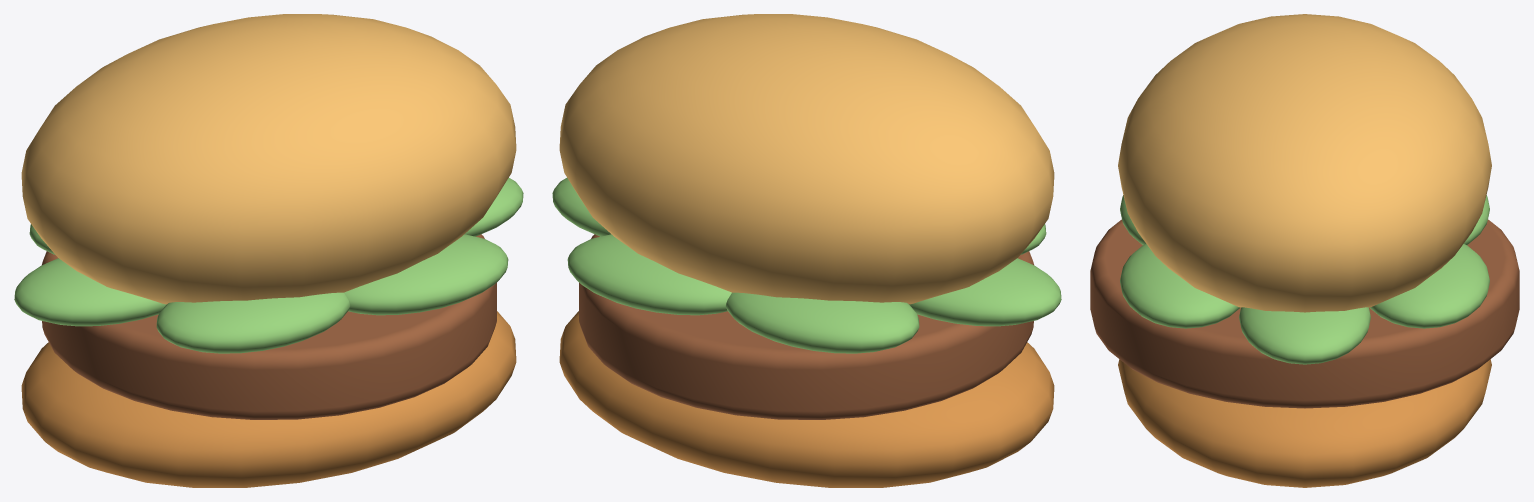
Rendered from bread_burger_unity.glb.
3 views of the same model, side by side, from view 1: azimuth 30°, elevation 25°; view 2: azimuth 150°, elevation 25°; view 3: azimuth 270°, elevation 25° (orthographic). The views are drawn at different scales.
Visible parts, largest first — view 1: Burger top bun, Burger bottom bun, Burger patty, Burger lettuce.004, Burger lettuce.005, Burger lettuce.003, Burger lettuce; view 2: Burger top bun, Burger bottom bun, Burger patty, Burger lettuce.002, Burger lettuce.001, Burger lettuce.003, Burger lettuce; view 3: Burger top bun, Burger patty, Burger bottom bun, Burger lettuce, Burger lettuce.001, Burger lettuce.005.
Boxes of the visible parts, <box> form: Burger top bun: <box>21,14,516,304</box>; Burger bottom bun: <box>21,311,516,487</box>; Burger patty: <box>42,234,496,419</box>; Burger lettuce.004: <box>156,292,349,353</box>; Burger lettuce.005: <box>344,234,508,315</box>; Burger lettuce.003: <box>14,258,166,326</box>; Burger lettuce: <box>465,178,523,236</box>; Burger top bun: <box>559,14,1054,304</box>; Burger bottom bun: <box>559,311,1054,487</box>; Burger patty: <box>579,234,1033,419</box>; Burger lettuce.002: <box>726,292,919,353</box>; Burger lettuce.001: <box>567,234,731,315</box>; Burger lettuce.003: <box>909,258,1061,326</box>; Burger lettuce: <box>552,178,610,236</box>; Burger top bun: <box>1118,14,1491,312</box>; Burger patty: <box>1090,219,1519,408</box>; Burger bottom bun: <box>1118,359,1491,487</box>; Burger lettuce: <box>1239,307,1370,364</box>; Burger lettuce.001: <box>1369,244,1489,328</box>; Burger lettuce.005: <box>1120,244,1240,328</box>.
Bounding box in the file's own units: 0.98 × 0.75 × 0.78.
